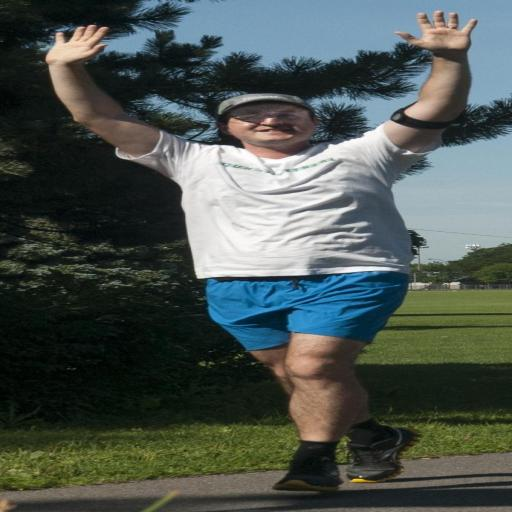person: (47, 11, 476, 490)
